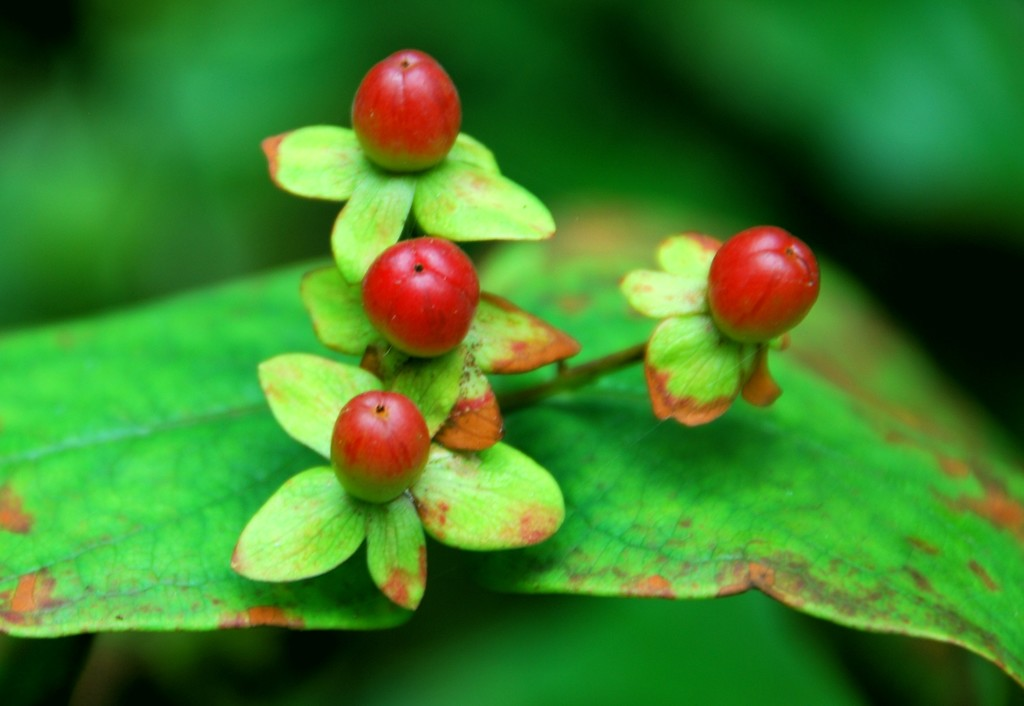Apple: (340, 47, 466, 171)
